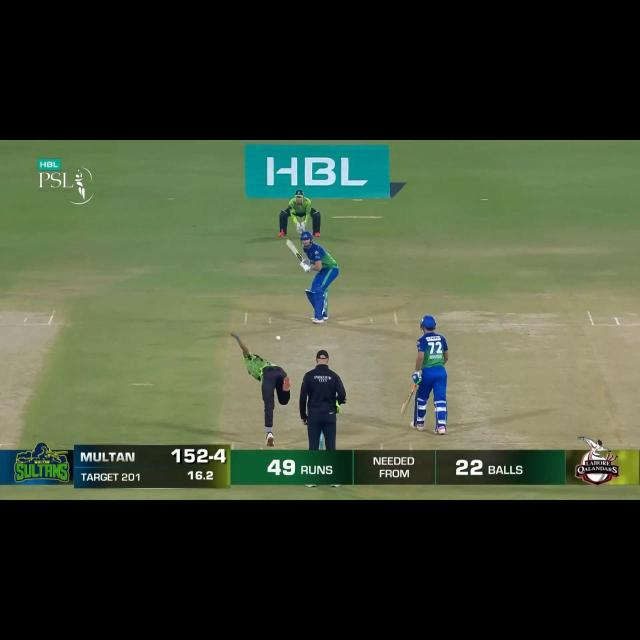bat: (400, 385, 415, 416), (286, 238, 303, 260)
toe: (285, 240, 292, 248), (400, 408, 405, 416)
